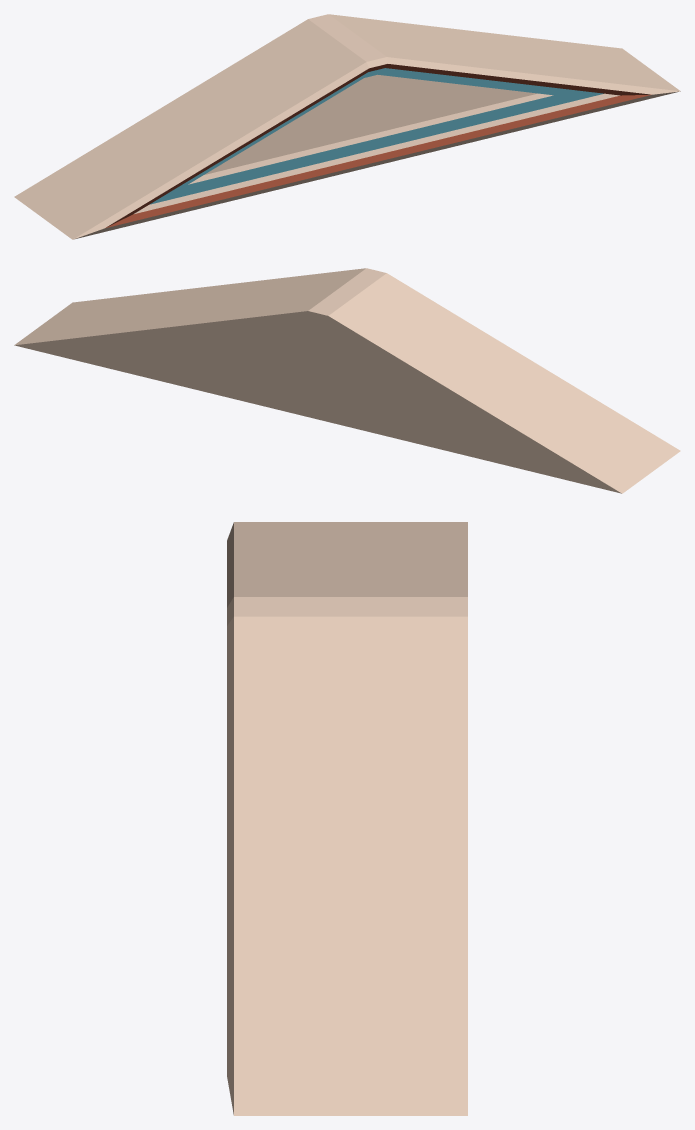
The model's file is greek_roof_1.fbx.
3 renders of one model, top to bottom at view 1: azimuth 30°, elevation 25°; view 2: azimuth 150°, elevation 25°; view 3: azimuth 270°, elevation 25°, orthographic. The views are drawn at different scales.
Parts seen in each view (by area): view 1: Cube.015; view 2: Cube.015; view 3: Cube.015.
Part boxes in pixels (left/top/right/bottom): Cube.015: left=14, top=14, right=680, bottom=239; Cube.015: left=14, top=268, right=680, bottom=493; Cube.015: left=227, top=522, right=467, bottom=1115.
Bounding box in the file's own units: 1200 × 200 × 206.
